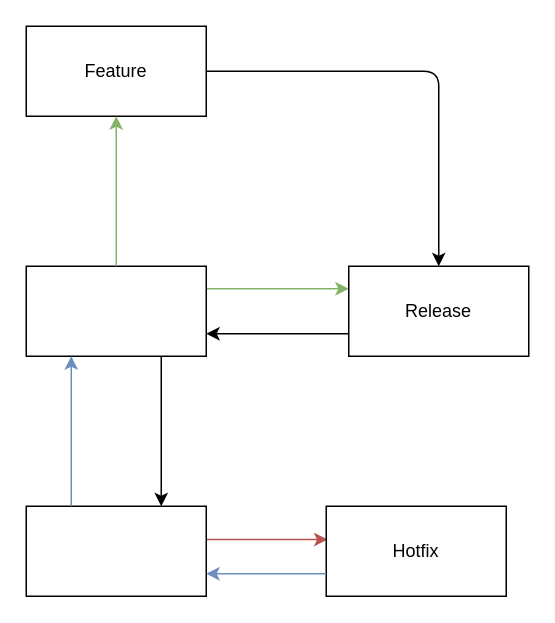
The diagram is 555 pixels wide and 623 high, and some of its shapes have lost their labels. The shapes that lost their labels are listed below. From the top down, each one's box as (x1, y1, x2, y2) in pixels, then its label:
(25, 265, 206, 356): Develop
(25, 505, 206, 596): Master
